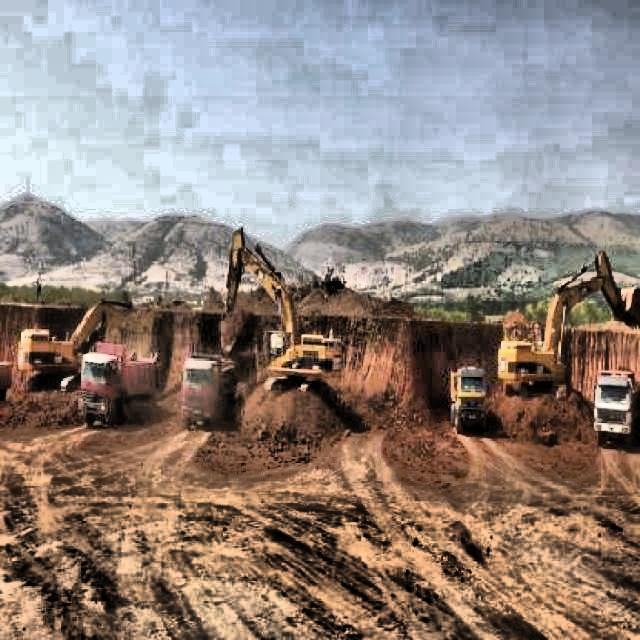dump_truck: (80, 357, 158, 425), (180, 349, 232, 431), (592, 364, 637, 452), (450, 366, 484, 434)
excavator: (495, 247, 640, 398), (216, 224, 342, 396), (13, 300, 158, 378)
